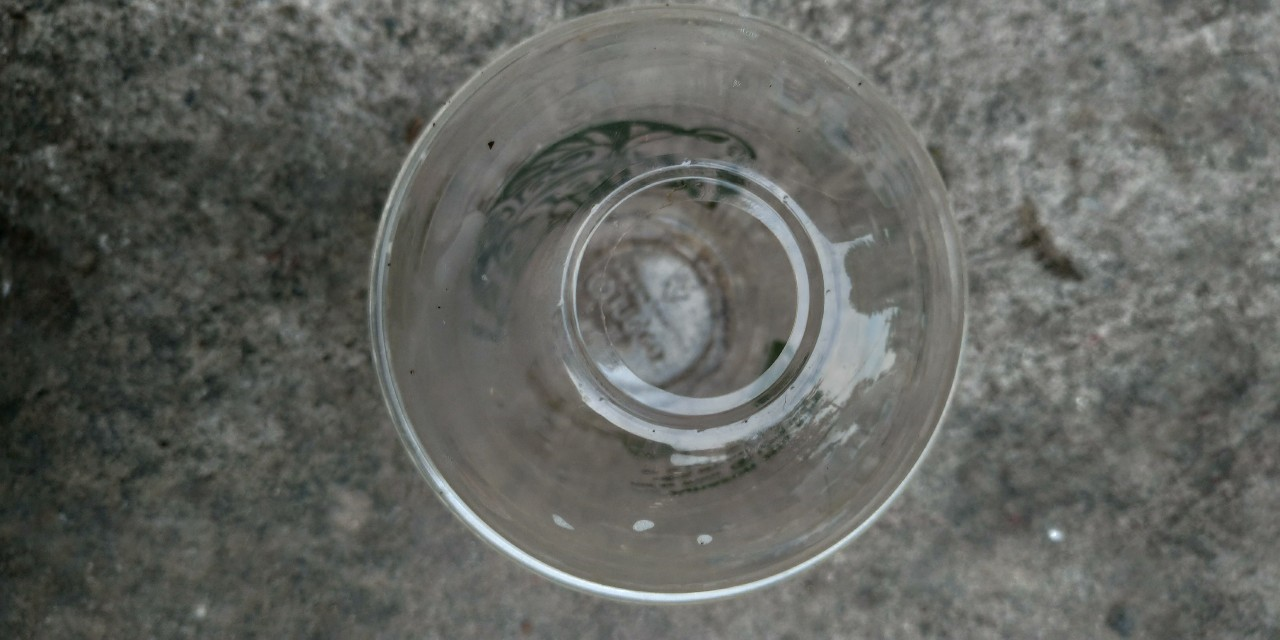PlasticCup: (369, 3, 972, 603)
